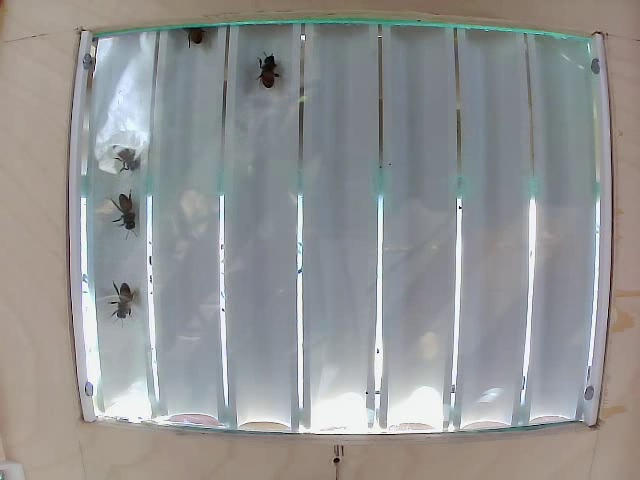bee: (106, 275, 135, 330), (104, 141, 145, 173), (108, 191, 137, 235), (251, 53, 280, 95), (188, 27, 204, 49)
